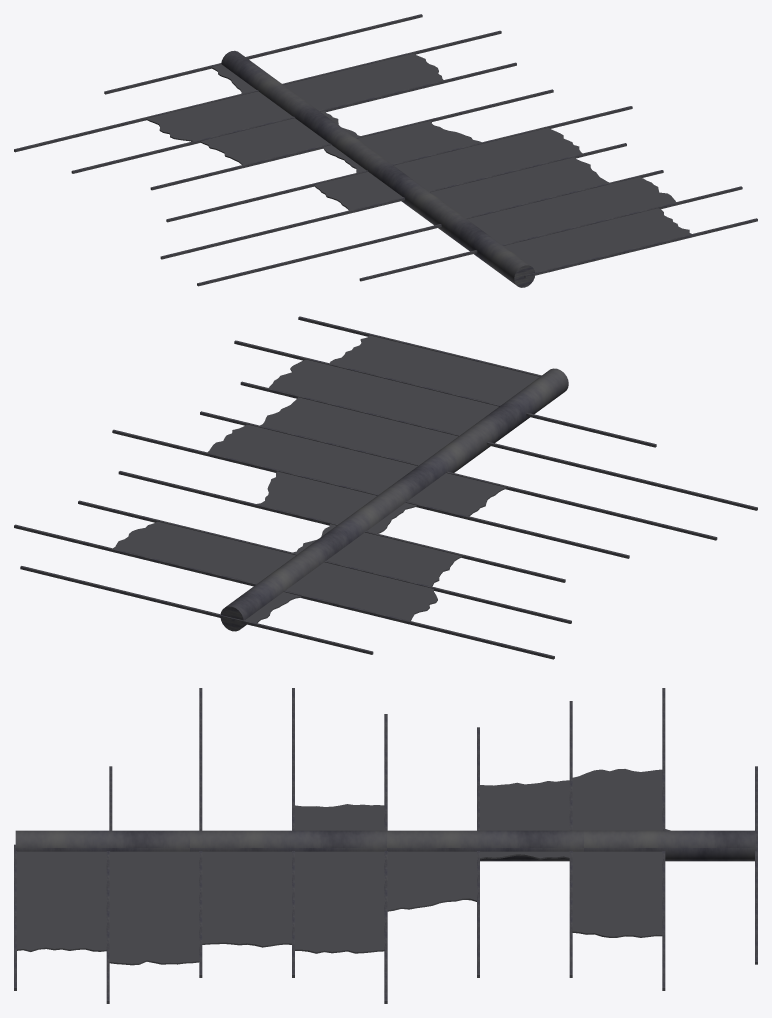
The model's file is wing1.fbx.
3 renders of one model, top to bottom at view 1: azimuth 30°, elevation 25°; view 2: azimuth 150°, elevation 25°; view 3: azimuth 270°, elevation 25°, orthographic. The views are drawn at different scales.
Parts seen in each view (by area): view 1: pCylinder1, pCube32, pCube34, pCube18, pCube33, pCube37, pCube41, pCube40, pCube35, pCube38, pCube3, pCube2 (+14 smaller); view 2: pCylinder1, pCube32, pCube34, pCube18, pCube33, pCube37, pCube41, pCube40, pCube35, pCube38, pCube2, pCube7 (+15 smaller); view 3: pCylinder1, pCube32, pCube34, pCube18, pCube33, pCube37, pCube41, pCube35, pCube40, pCube38, pCube36, pCube10 (+4 smaller).
Boxes of the visible parts, x1,y1,x2,y2 form: pCylinder1: (221,50,534,287); pCube32: (467,177,675,244); pCube34: (394,128,582,190); pCube18: (504,208,691,272); pCube33: (430,157,608,217); pCube37: (284,53,443,110); pCube41: (146,91,292,141); pCube40: (200,118,329,164); pCube35: (357,120,481,163); pCube38: (314,172,402,210); pCube3: (160,197,404,259); pCube2: (197,224,441,286); pCylinder1: (220,368,568,631); pCube32: (269,359,498,434); pCube34: (207,424,417,494); pCube18: (330,335,539,404); pCube33: (260,397,458,464); pCube37: (113,521,295,583); pCube41: (286,562,437,620); pCube40: (326,532,461,586); pCube35: (257,471,376,523); pCube38: (408,473,506,516); pCube2: (486,441,757,510); pCube7: (283,590,554,659); pCylinder1: (15,830,756,861); pCube32: (109,851,199,965); pCube34: (295,851,384,953); pCube18: (17,851,106,951); pCube33: (202,851,291,947); pCube37: (572,851,662,937); pCube41: (572,769,662,830); pCube35: (387,851,476,911); pCube40: (480,780,569,830); pCube38: (295,804,384,830); pCube36: (480,851,569,859); pCube10: (106,851,109,1003).
Bounding box in the file's own units: 24 × 1 × 24.1.
